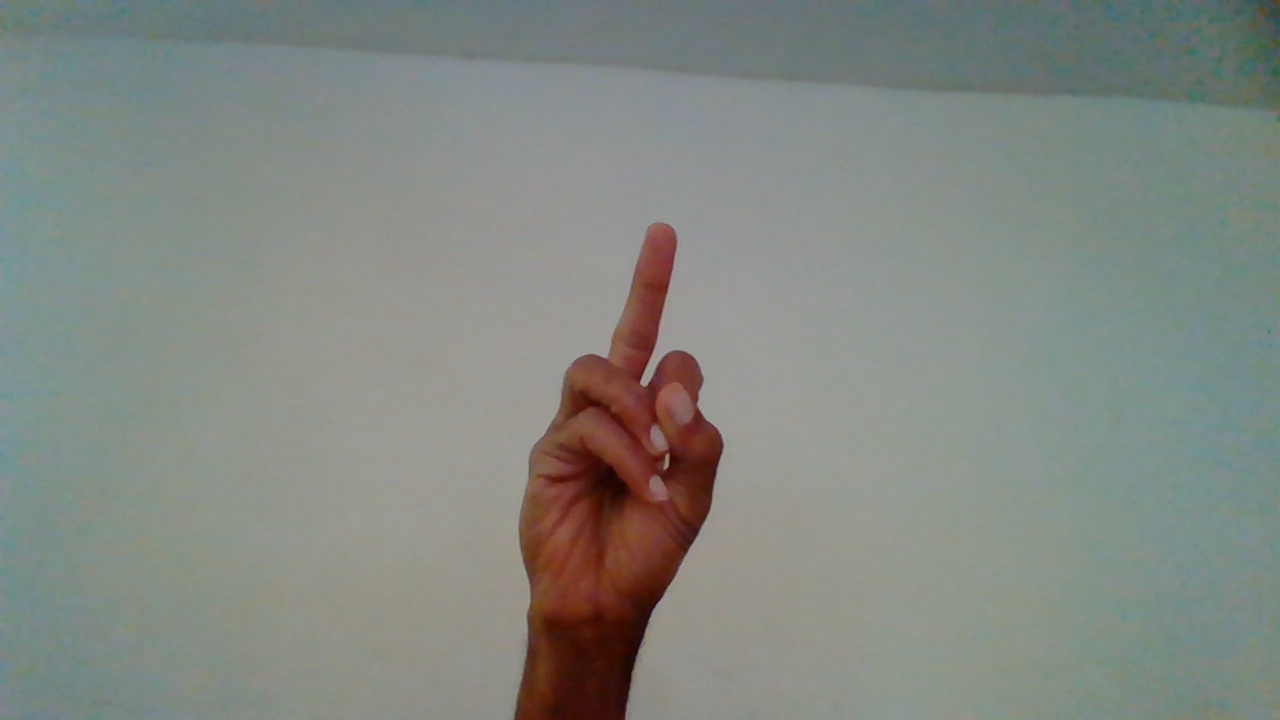he: (513, 226, 718, 720)
